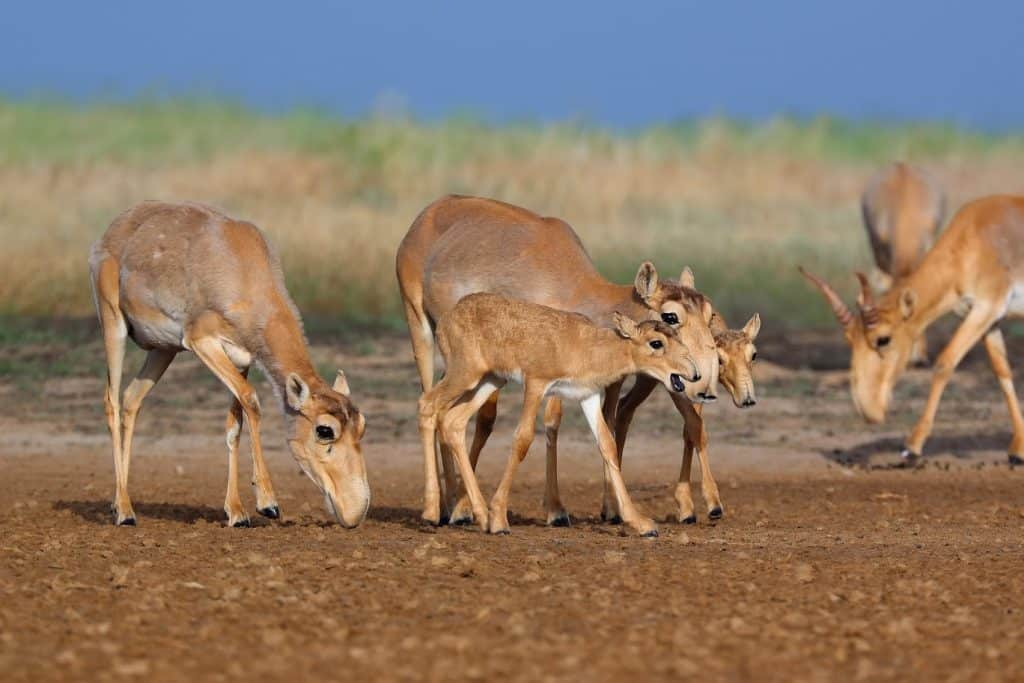saiga: (393, 187, 727, 538), (79, 199, 367, 542), (413, 292, 696, 544), (810, 180, 1024, 475)
